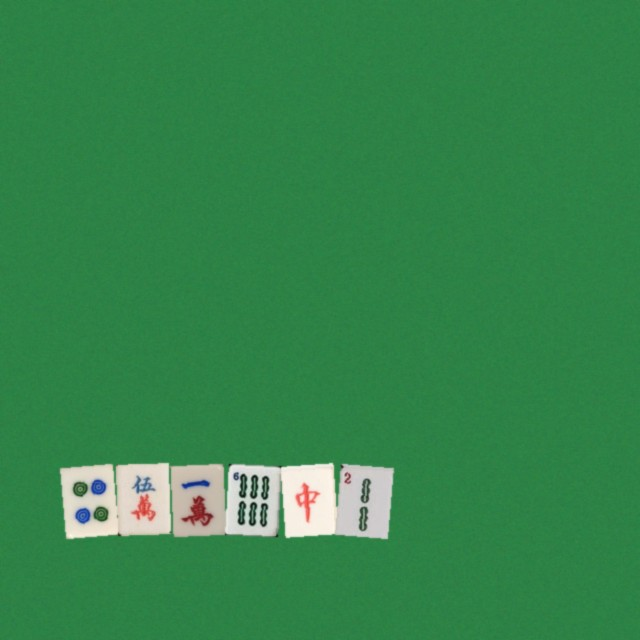tile: (60, 463, 113, 534), (115, 463, 168, 534), (170, 463, 223, 534), (225, 463, 278, 534), (280, 463, 333, 534), (335, 463, 388, 534)
